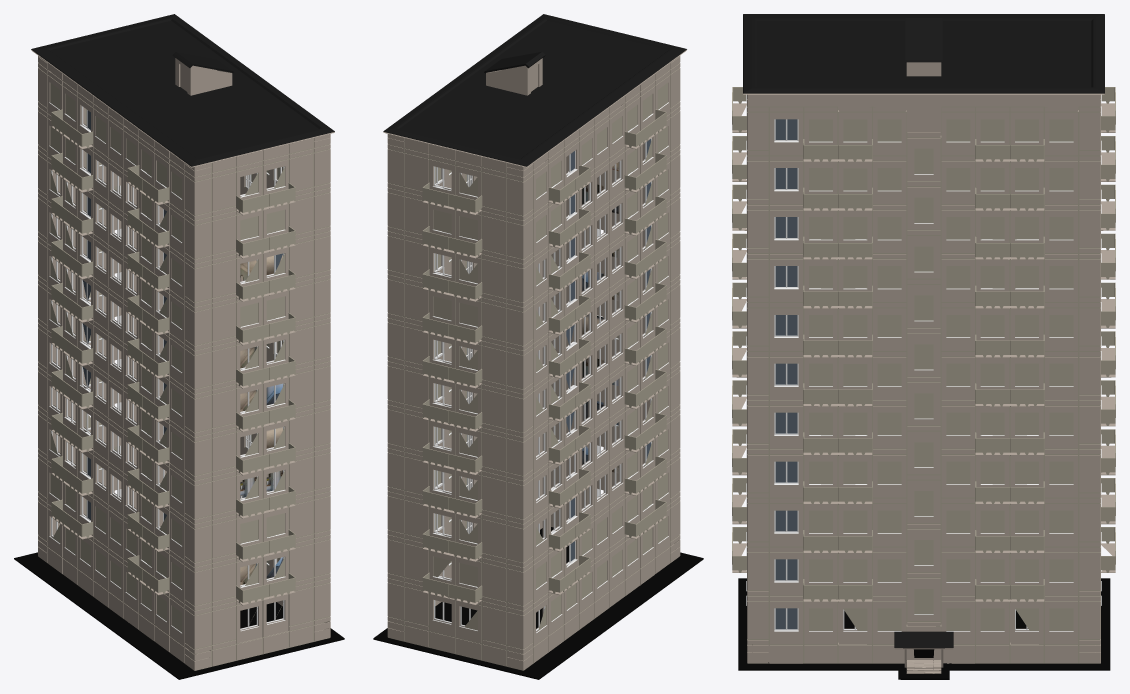
Rendered from panel_house_1.glb.
3 views of the same model, side by side, from view 1: azimuth 30°, elevation 25°; view 2: azimuth 150°, elevation 25°; view 3: azimuth 270°, elevation 25° (orthographic). The views are drawn at different scales.
Parts seen in each view (by area): view 1: Object_10, Object_9, Object_2, Object_7, Object_5, Object_4, Object_14, Object_3; view 2: Object_10, Object_9, Object_2, Object_7, Object_5, Object_4, Object_3, Object_14; view 3: Object_10, Object_9, Object_2, Object_7, Object_5, Object_3, Object_4.
Part boxes in pixels (box(x1,y1,x2,y2)): Object_10: box(31, 50, 334, 670); Object_9: box(38, 63, 330, 670); Object_2: box(51, 109, 295, 603); Object_7: box(31, 14, 334, 166); Object_5: box(49, 102, 285, 633); Object_4: box(14, 552, 344, 679); Object_14: box(240, 255, 282, 584); Object_3: box(82, 110, 283, 569); Object_10: box(383, 50, 686, 670); Object_9: box(388, 63, 679, 670); Object_2: box(422, 109, 666, 603); Object_7: box(383, 14, 686, 166); Object_5: box(432, 102, 668, 633); Object_4: box(373, 527, 703, 679); Object_3: box(566, 139, 650, 561); Object_14: box(582, 162, 618, 473); Object_10: box(732, 62, 1115, 673); Object_9: box(747, 106, 1100, 663); Object_2: box(732, 87, 1115, 601); Object_7: box(743, 14, 1104, 648); Object_5: box(746, 94, 1101, 631); Object_3: box(775, 119, 797, 629); Object_4: box(738, 578, 1110, 679).
Size of the model in its own units: 17.35 by 49.11 by 28.02.
Materials: 9 (1 with a texture image).
